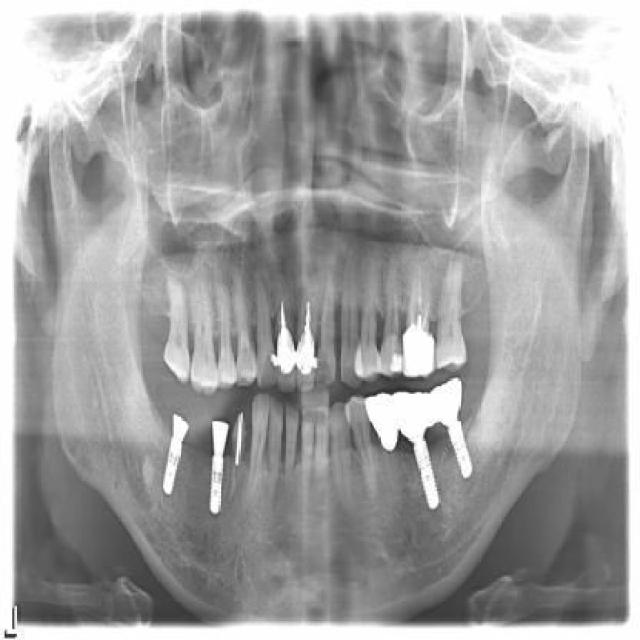implant: (424, 373, 492, 492), (394, 385, 449, 516), (157, 415, 190, 501), (208, 411, 228, 520)
kanal-tedavisi: (411, 274, 433, 326), (299, 288, 316, 334), (278, 282, 286, 332)
kaplama: (398, 321, 435, 378), (274, 325, 299, 384), (296, 329, 319, 376)
kopru: (358, 382, 427, 467)
